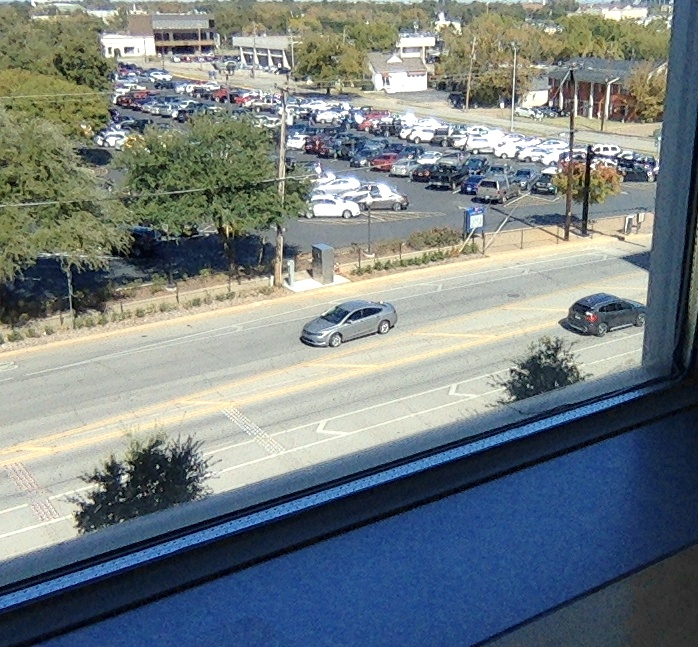car: (300, 300, 398, 347)
